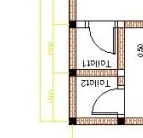door: (84, 16, 118, 58), (88, 85, 131, 118)
